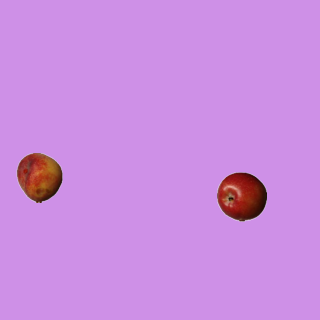Apple Braeburn: (216, 171, 266, 221)
Peach: (14, 152, 64, 202)
